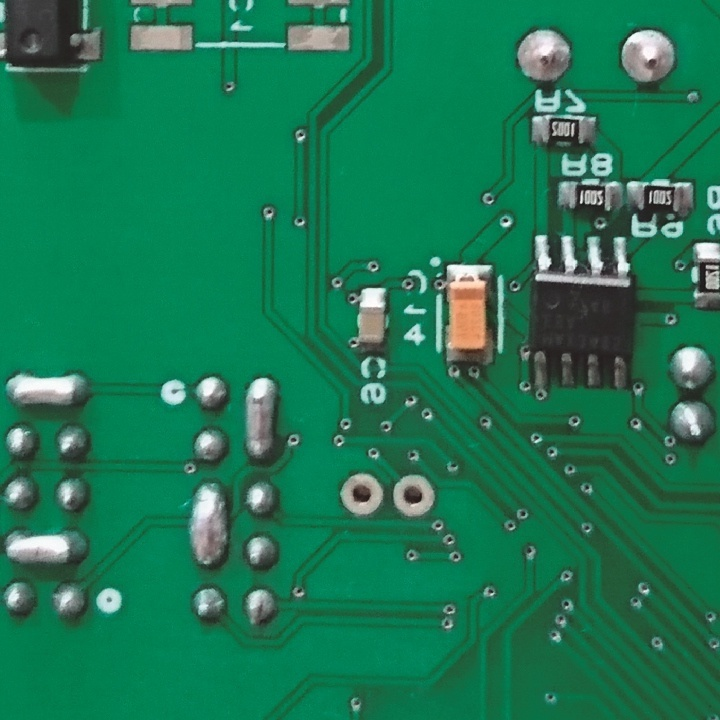F: (618, 24, 679, 91), (513, 26, 576, 88), (390, 469, 438, 526), (339, 470, 383, 518)
P: (1, 524, 94, 573), (1, 369, 99, 414), (187, 475, 231, 568), (242, 373, 283, 461)
